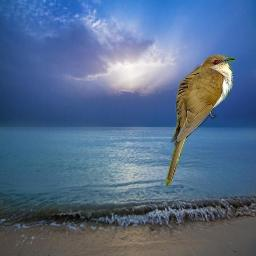Cuckoo: (164, 54, 236, 187)
